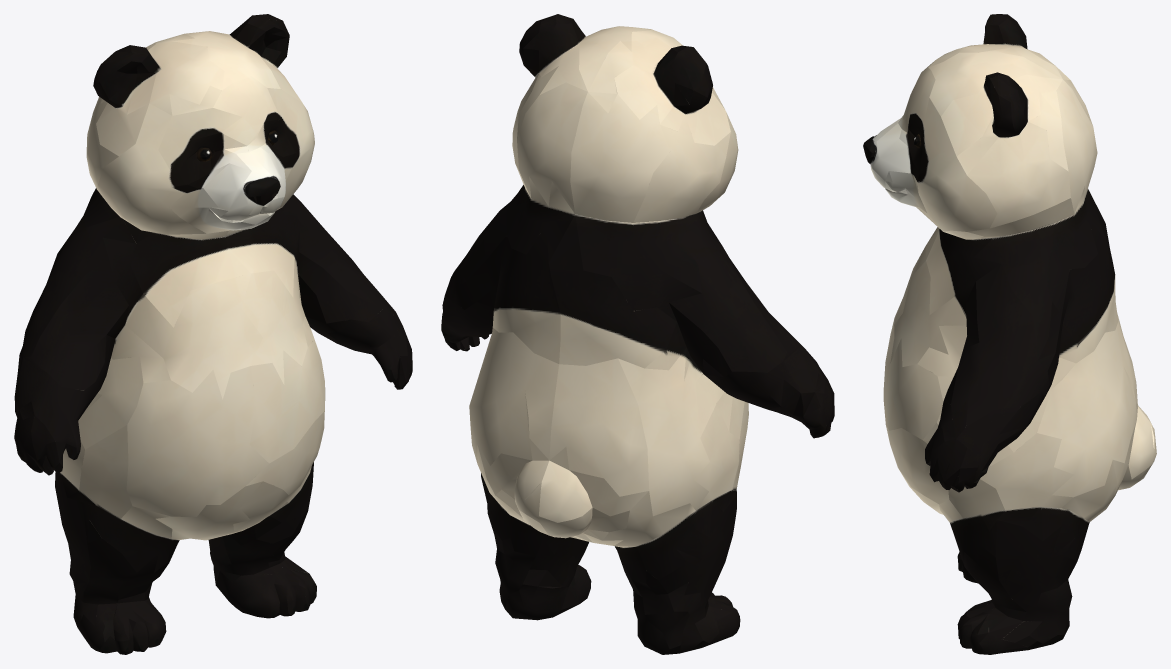
The model's file is panda.glb.
3 views of the same model, side by side, from view 1: azimuth 30°, elevation 25°; view 2: azimuth 150°, elevation 25°; view 3: azimuth 270°, elevation 25° (orthographic). The views are drawn at different scales.
Parts seen in each view (by area): view 1: output_unwrapped; view 2: output_unwrapped; view 3: output_unwrapped.
Part boxes in pixels (<box>): output_unwrapped: <box>14,14,412,654</box>; output_unwrapped: <box>441,14,834,654</box>; output_unwrapped: <box>863,14,1156,654</box>.
Size of the model in its own units: 1.31 by 1.9 by 0.9036.
1 material, 1 textured.
